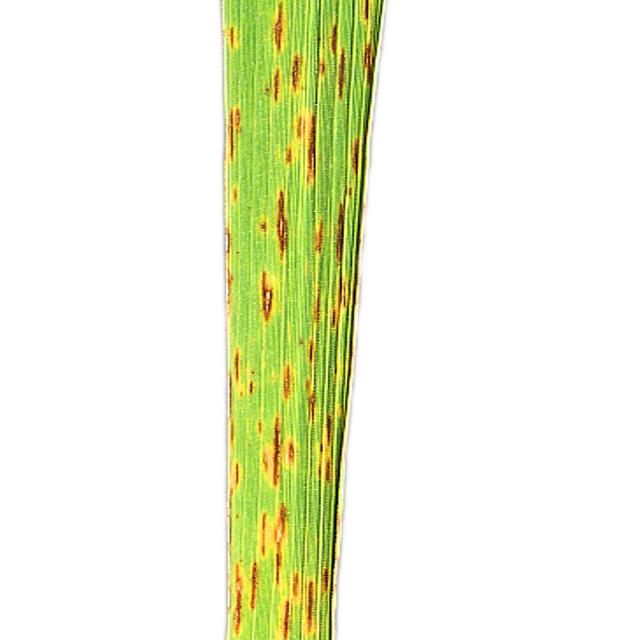Narrow brown: (191, 0, 436, 640)
